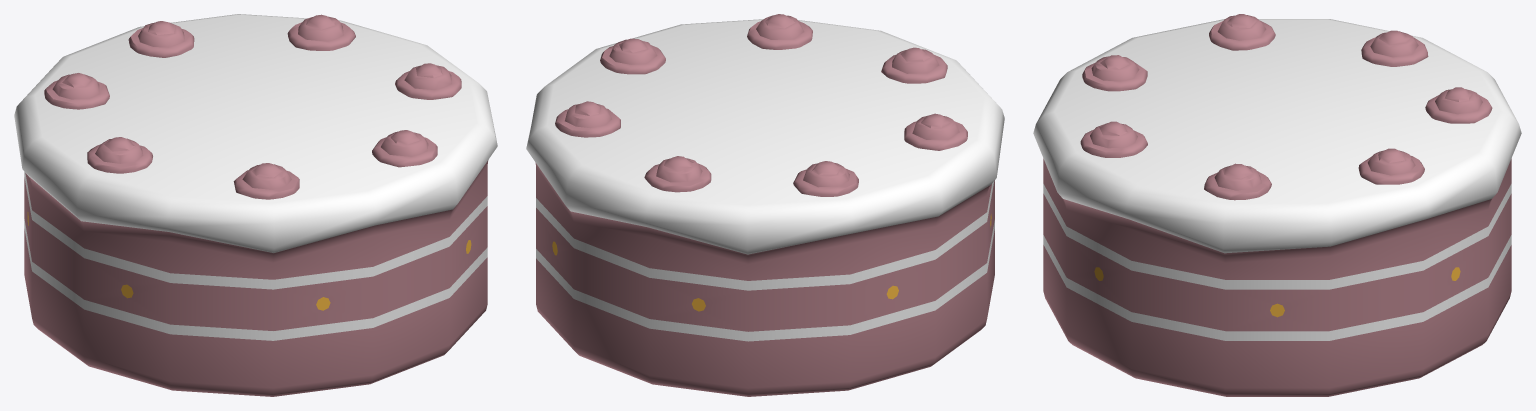
The model's file is Cake_3.fbx.
3 views of the same model, side by side, from view 1: azimuth 30°, elevation 25°; view 2: azimuth 150°, elevation 25°; view 3: azimuth 270°, elevation 25° (orthographic).
Visible parts, largest first — view 1: Cake_3; view 2: Cake_3; view 3: Cake_3.
Part boxes in pixels (x1,y1,x2,y2): Cake_3: (14, 14, 497, 396); Cake_3: (526, 14, 1004, 396); Cake_3: (1033, 14, 1521, 396).
Bounding box in the file's own units: 0.3125 × 0.1543 × 0.3205.
